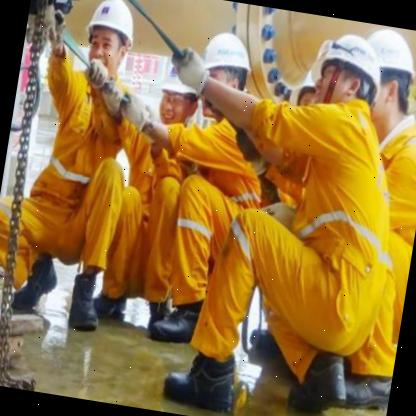bota: (160, 340, 242, 416), (284, 340, 355, 416), (8, 248, 63, 318), (65, 270, 106, 335)
